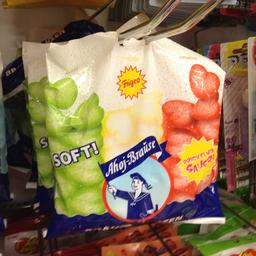candy: (27, 34, 224, 230)
